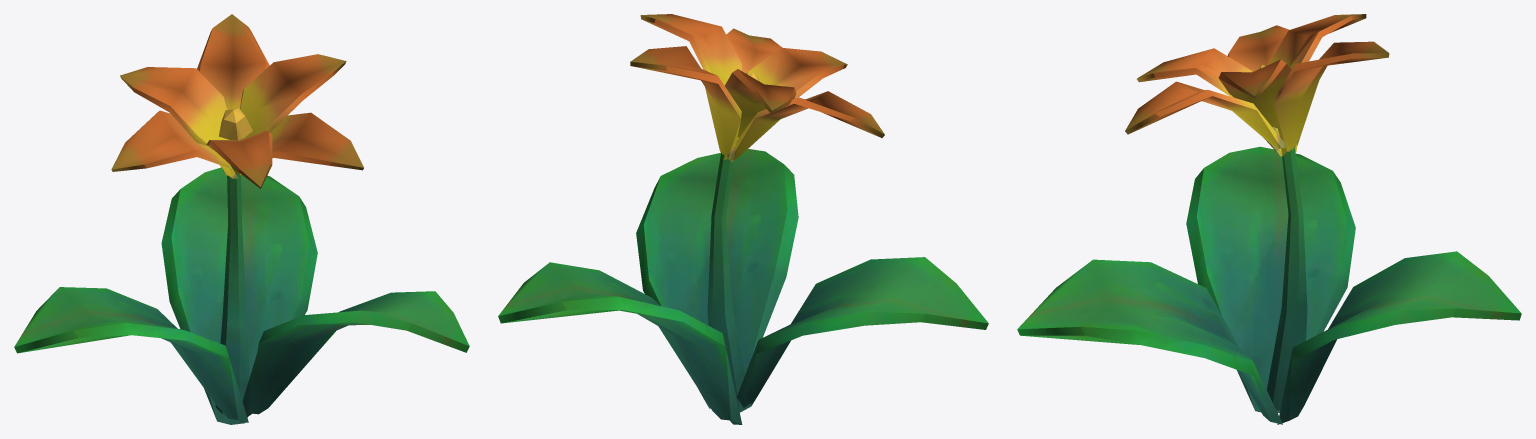
File: flower-orange.glb
3 views of the same model, side by side, from view 1: azimuth 30°, elevation 25°; view 2: azimuth 150°, elevation 25°; view 3: azimuth 270°, elevation 25° (orthographic). The views are drawn at different scales.
Parts seen in each view (by area): view 1: pCube7_lambert1_0.001; view 2: pCube7_lambert1_0.001; view 3: pCube7_lambert1_0.001.
Boxes of the visible parts, bbox=[...] form: pCube7_lambert1_0.001: bbox=[14, 14, 469, 424]; pCube7_lambert1_0.001: bbox=[498, 14, 988, 424]; pCube7_lambert1_0.001: bbox=[1017, 14, 1521, 424].
Size of the model in its own units: 2.87 by 2.7 by 3.13.
1 material, 1 textured.
